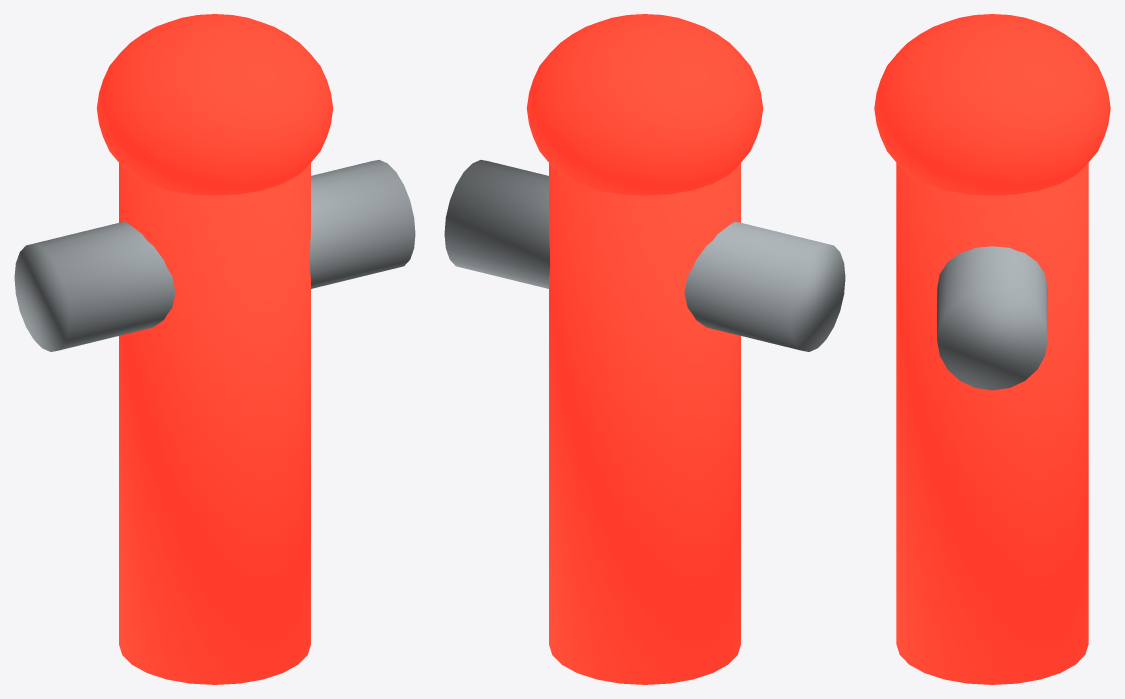
File: SM_Hydrant.fbx
The picture shows the model from 3 angles, left to right: view 1: azimuth 30°, elevation 25°; view 2: azimuth 150°, elevation 25°; view 3: azimuth 270°, elevation 25°; orthographic projection.
Parts seen in each view (by area): view 1: SM_Hydrant; view 2: SM_Hydrant; view 3: SM_Hydrant.
Part boxes in pixels (box(x1,y1,x2,y2)): SM_Hydrant: box(14, 14, 415, 684); SM_Hydrant: box(444, 14, 845, 684); SM_Hydrant: box(874, 14, 1110, 684).
Bounding box in the file's own units: 54 × 32 × 92.
